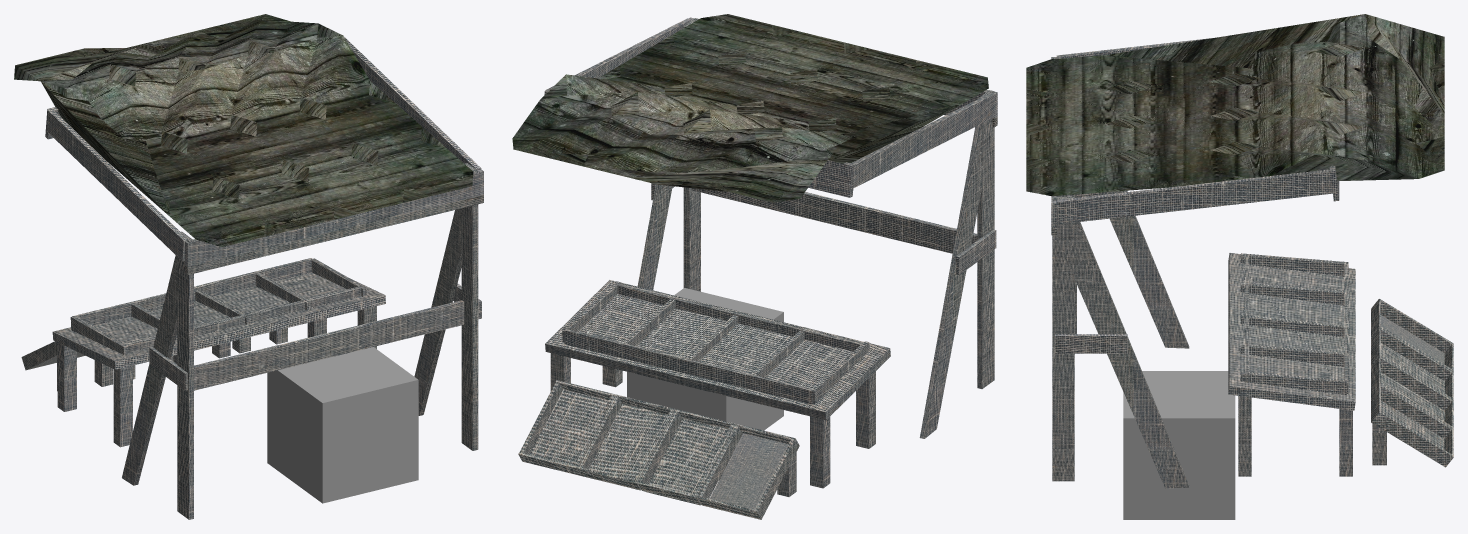
The model's file is market6.obj.
3 renders of one model, left to right at view 1: azimuth 30°, elevation 25°; view 2: azimuth 150°, elevation 25°; view 3: azimuth 270°, elevation 25°, orthographic. The views are drawn at different scales.
Parts seen in each view (by area): view 1: Plane01, Cube, Box12, Box01, Box08, Box03, Box02, Box09, Box04, Box05, Box18, Box17 (+9 smaller); view 2: Plane01, Box12, Box01, Cube, Box04, Box02, Box18, Box09, Box33, Box53, Box43, Box38 (+19 smaller); view 3: Plane01, Cube, Box12, Box05, Box10, Box03, Box04, Box07, Box20, Box19, Box23, Box21 (+16 smaller).
Boxes of the visible parts, x1=… form: Plane01: x1=14, y1=14, x2=473, y2=246; Cube: x1=267, y1=347, x2=418, y2=503; Box12: x1=52, y1=272, x2=385, y2=369; Box01: x1=194, y1=300, x2=464, y2=390; Box08: x1=185, y1=169, x2=483, y2=274; Box03: x1=461, y1=163, x2=478, y2=450; Box02: x1=177, y1=231, x2=193, y2=519; Box09: x1=46, y1=109, x2=187, y2=261; Box04: x1=122, y1=255, x2=177, y2=485; Box05: x1=414, y1=208, x2=461, y2=415; Box18: x1=72, y1=258, x2=312, y2=325; Box17: x1=124, y1=286, x2=362, y2=352; Plane01: x1=512, y1=14, x2=988, y2=202; Box12: x1=545, y1=280, x2=890, y2=419; Box01: x1=692, y1=188, x2=977, y2=253; Cube: x1=627, y1=288, x2=783, y2=448; Box04: x1=919, y1=124, x2=981, y2=438; Box02: x1=977, y1=90, x2=994, y2=388; Box18: x1=564, y1=329, x2=813, y2=404; Box09: x1=849, y1=93, x2=995, y2=188; Box33: x1=645, y1=418, x2=728, y2=505; Box53: x1=709, y1=433, x2=799, y2=509; Box43: x1=529, y1=389, x2=608, y2=465; Box38: x1=589, y1=404, x2=667, y2=480; Plane01: x1=1026, y1=14, x2=1444, y2=196; Cube: x1=1123, y1=371, x2=1235, y2=519; Box12: x1=1228, y1=252, x2=1355, y2=410; Box05: x1=1056, y1=222, x2=1189, y2=488; Box10: x1=1056, y1=169, x2=1335, y2=223; Box03: x1=1052, y1=197, x2=1074, y2=481; Box04: x1=1098, y1=191, x2=1189, y2=348; Box07: x1=1055, y1=334, x2=1127, y2=353; Box20: x1=1240, y1=372, x2=1347, y2=394; Box19: x1=1240, y1=253, x2=1348, y2=276; Box23: x1=1240, y1=283, x2=1344, y2=305; Box21: x1=1240, y1=344, x2=1344, y2=366.
Size of the model in its own units: 6.21 by 7.46 by 7.63.
Materials: 4 (2 with a texture image).
